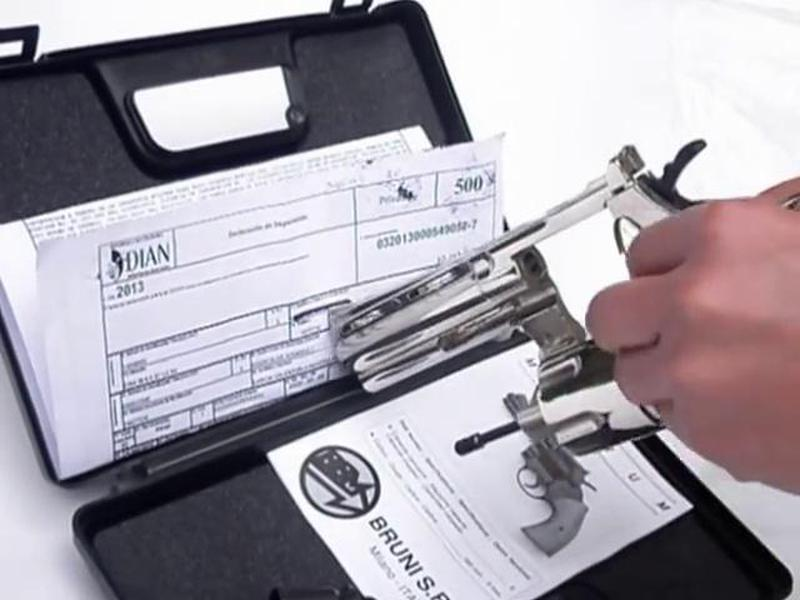Revolver: (282, 129, 800, 473)
